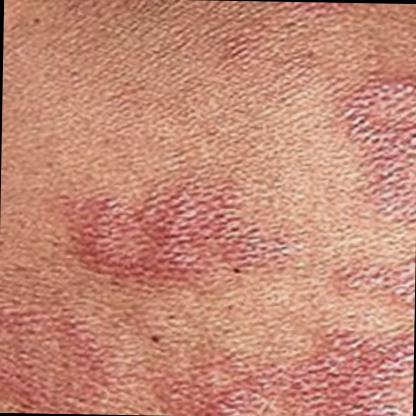Leprosy: (57, 186, 306, 290), (196, 324, 414, 416), (331, 61, 416, 230), (327, 253, 415, 316)
